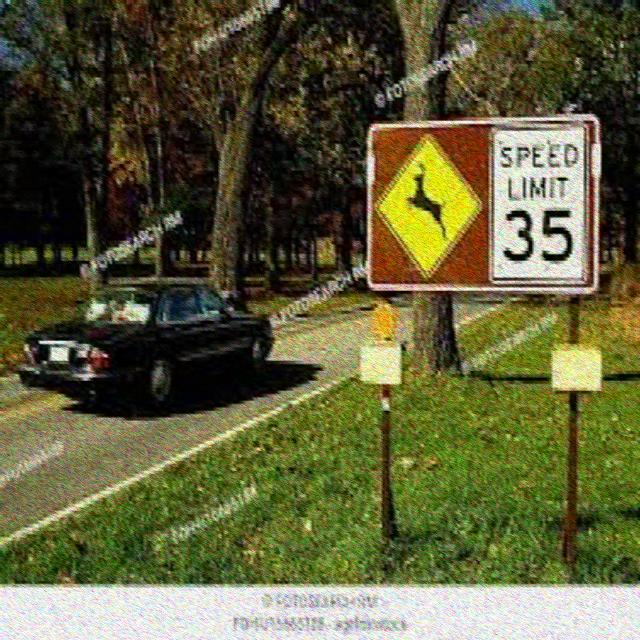speedLimit35: (493, 130, 583, 280)
